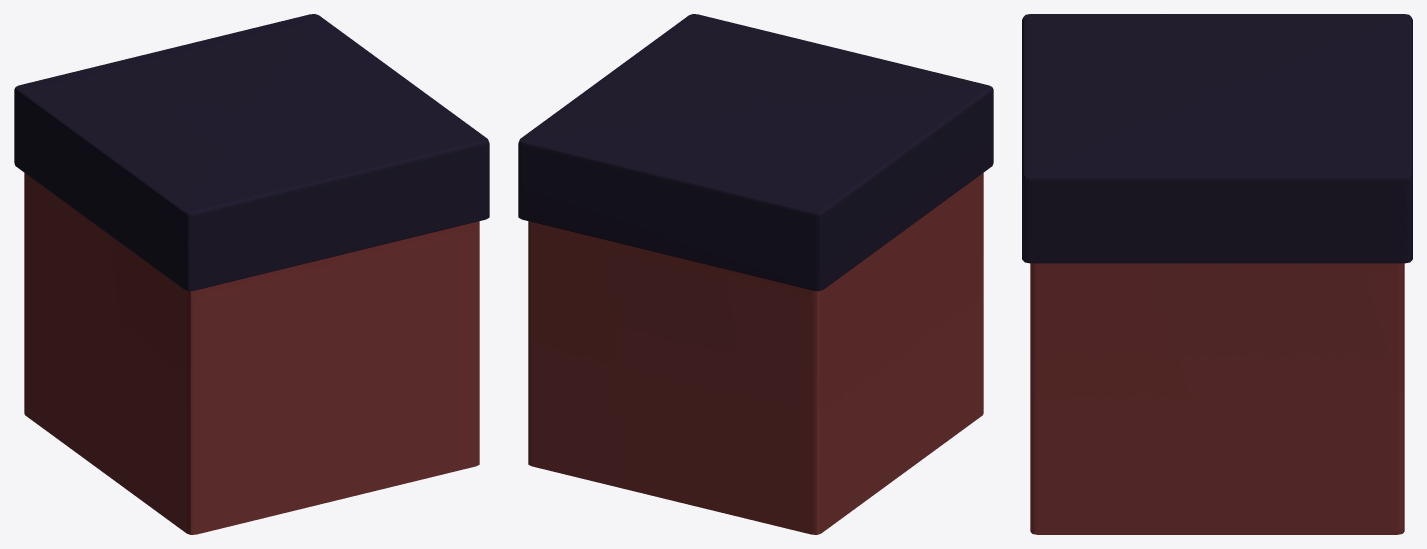
The model's file is SM_BoiteJouet_01.fbx.
3 views of the same model, side by side, from view 1: azimuth 30°, elevation 25°; view 2: azimuth 150°, elevation 25°; view 3: azimuth 270°, elevation 25° (orthographic). The views are drawn at different scales.
Visible parts, largest first — view 1: SM_BoiteJouet_01; view 2: SM_BoiteJouet_01; view 3: SM_BoiteJouet_01.
Boxes of the visible parts, <box> form: SM_BoiteJouet_01: <box>14,14,489,534</box>; SM_BoiteJouet_01: <box>518,14,993,534</box>; SM_BoiteJouet_01: <box>1022,14,1412,534</box>.
Bounding box in the file's own units: 53.71 × 54.89 × 53.8.
